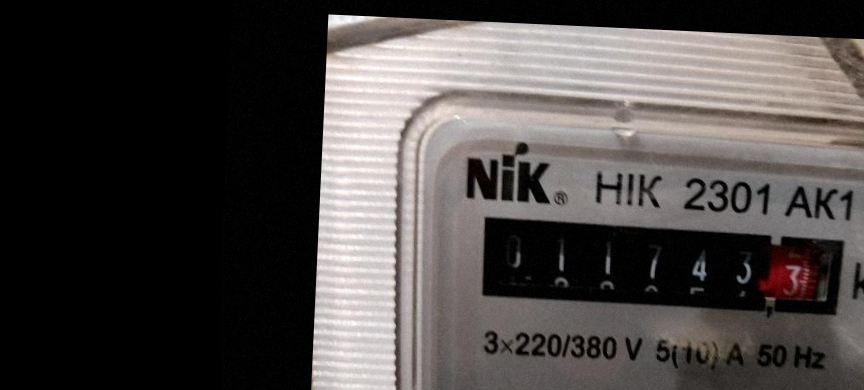0: (502, 231, 526, 271), (552, 232, 572, 274)
1: (599, 235, 617, 277)
3: (734, 244, 756, 288), (781, 260, 803, 299)
4: (689, 242, 711, 283)
7: (642, 237, 667, 282)
screen: (461, 202, 854, 327)
